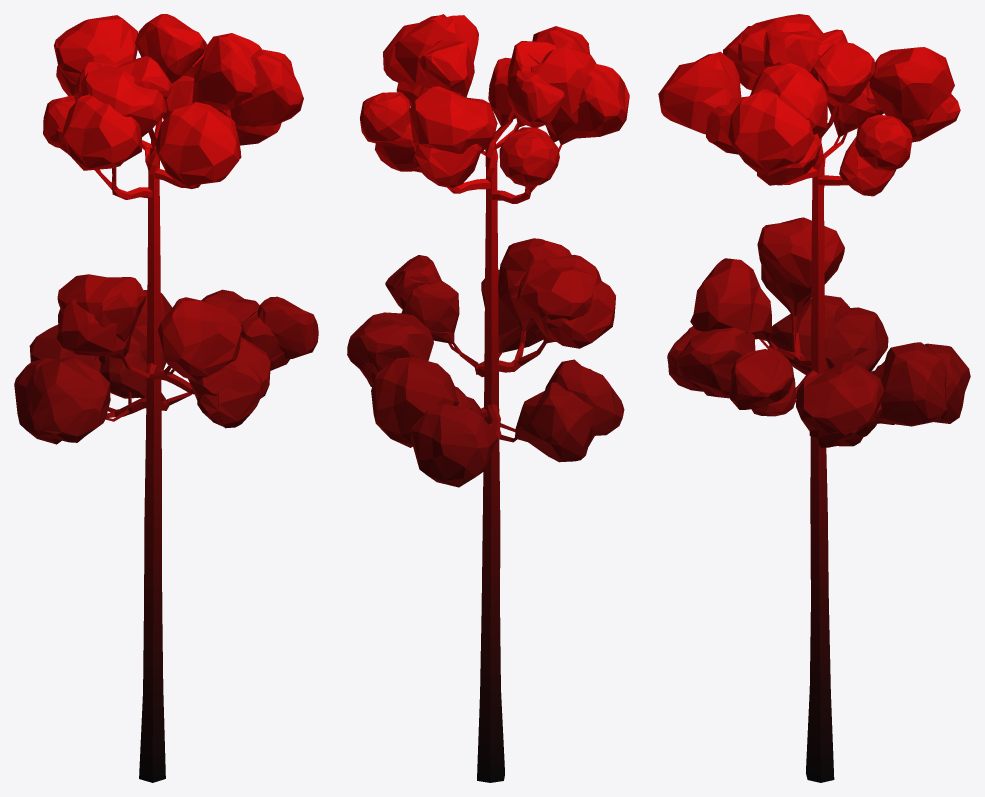
File: TreePine03.fbx
3 renders of one model, left to right at view 1: azimuth 30°, elevation 25°; view 2: azimuth 150°, elevation 25°; view 3: azimuth 270°, elevation 25°, orthographic.
Visible parts, largest first — view 1: TreePine03_LOD0; view 2: TreePine03_LOD0; view 3: TreePine03_LOD0.
Part boxes in pixels (x1=…): TreePine03_LOD0: x1=14, y1=14, x2=318, y2=782; TreePine03_LOD0: x1=347, y1=14, x2=629, y2=782; TreePine03_LOD0: x1=658, y1=14, x2=970, y2=782.
Size of what is drawn, in the model's own units: 331 by 920 by 350.
